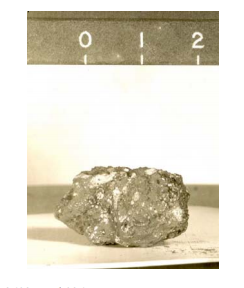Breccia: (61, 157, 204, 250)
